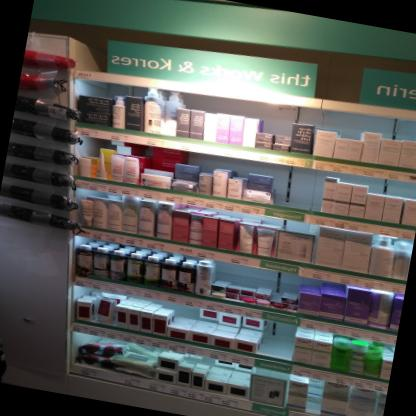empty_space: (257, 320, 297, 360), (286, 166, 310, 209), (304, 168, 327, 211), (270, 163, 292, 207)
